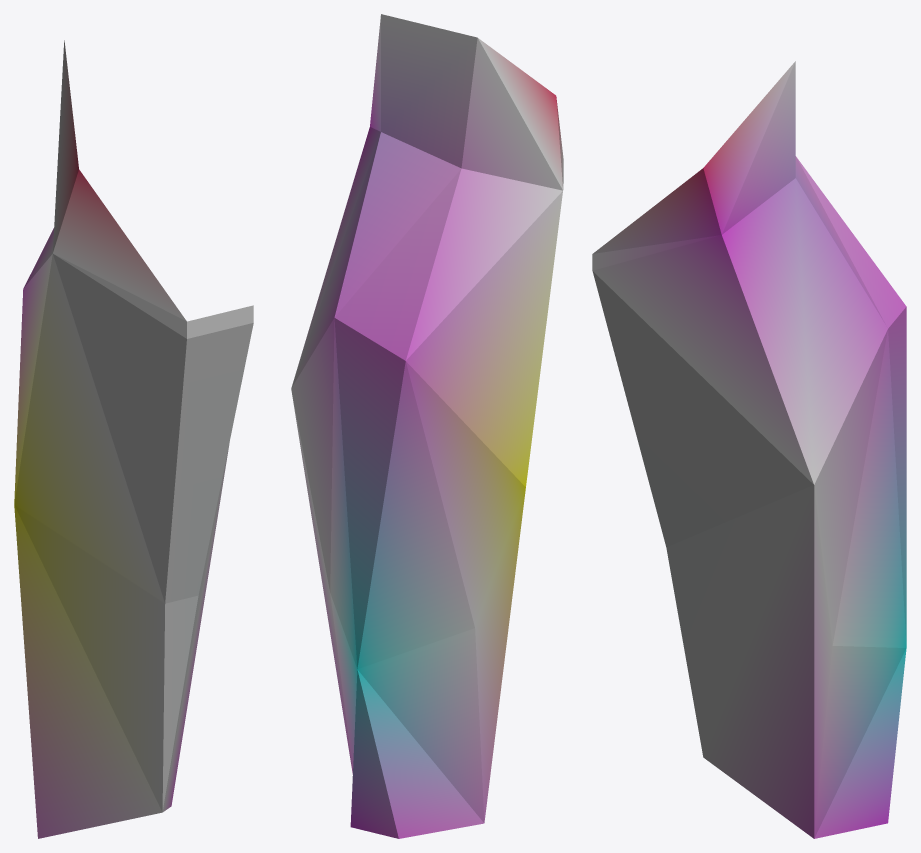
3 renders of one model, left to right at view 1: azimuth 30°, elevation 25°; view 2: azimuth 150°, elevation 25°; view 3: azimuth 270°, elevation 25°, orthographic. The views are drawn at different scales.
Parts seen in each view (by area): view 1: model_1178; view 2: model_1178; view 3: model_1178.
Part boxes in pixels (x1,y1,x2,y2): model_1178: (14,40,253,838); model_1178: (291,14,563,838); model_1178: (592,61,906,838).
Bounding box in the file's own units: 14 × 46 × 17.
